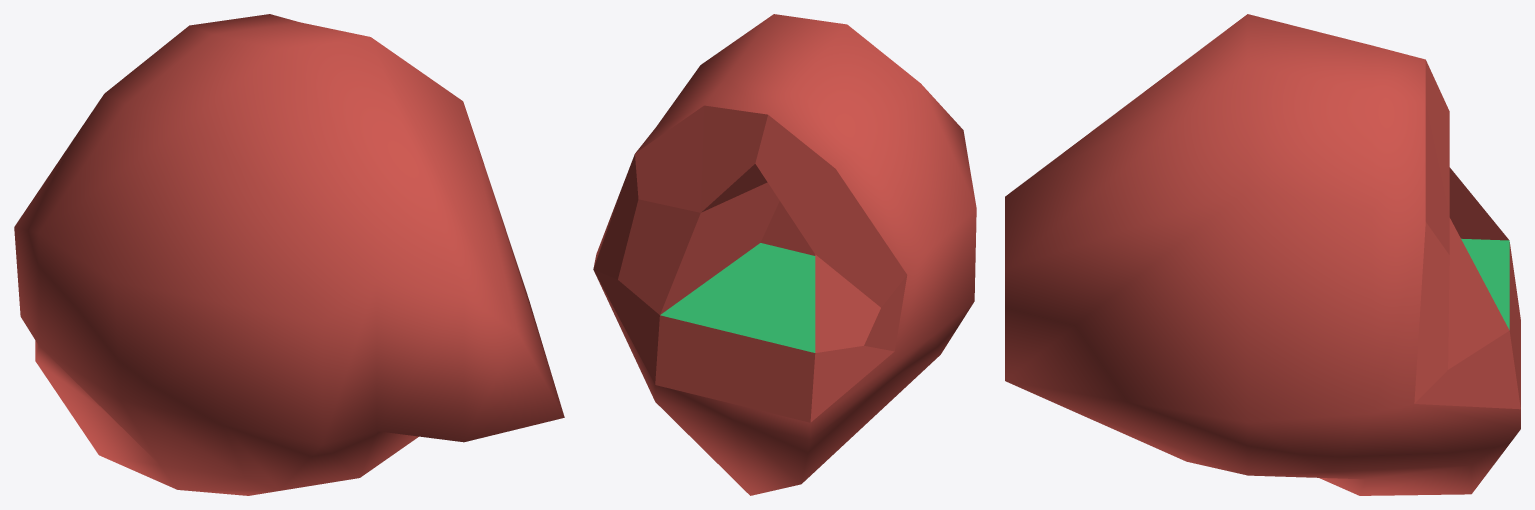
File: lacune.fbx_HousesSmall.fbx
The picture shows the model from 3 angles, left to right: view 1: azimuth 30°, elevation 25°; view 2: azimuth 150°, elevation 25°; view 3: azimuth 270°, elevation 25°; orthographic projection. The views are drawn at different scales.
Parts seen in each view (by area): view 1: HousesSmall; view 2: HousesSmall; view 3: HousesSmall.
Boxes of the visible parts, bbox=[...] form: HousesSmall: bbox=[14, 14, 564, 495]; HousesSmall: bbox=[593, 14, 976, 495]; HousesSmall: bbox=[1005, 14, 1520, 495].
Size of what is drawn, in the model's own units: 182 by 208 by 203.
